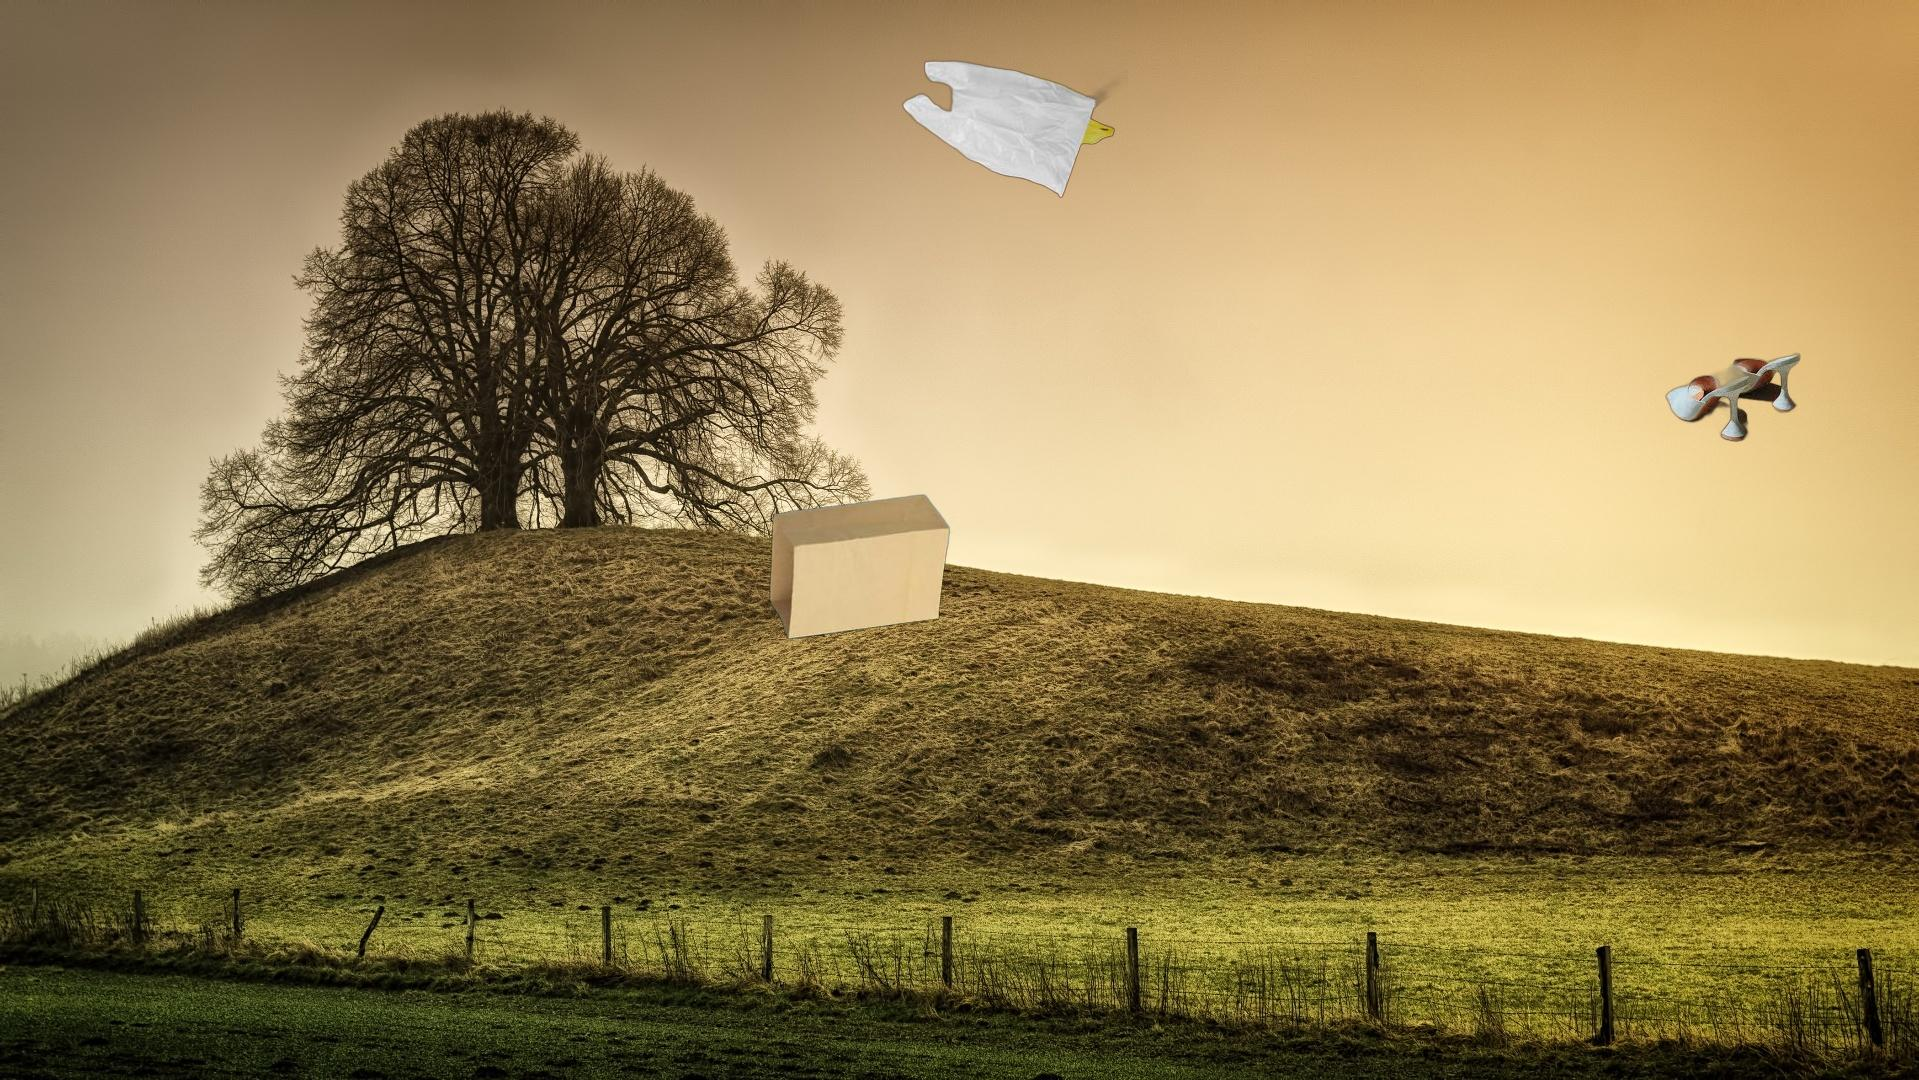paper-bag: (766, 493, 957, 642)
plastic-bag: (902, 58, 1128, 199)
shoes: (1663, 351, 1803, 446)
